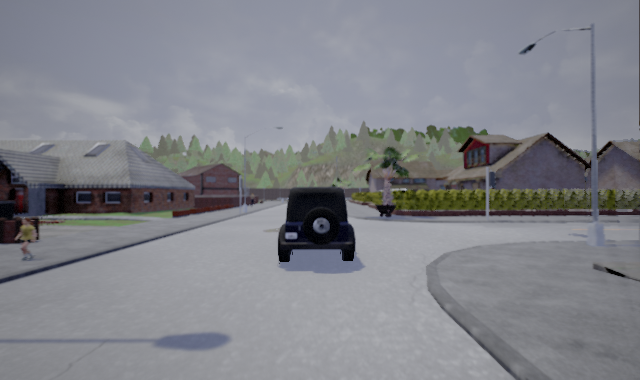pedestrian: (12, 214, 40, 263)
vehicle: (276, 184, 355, 265)
